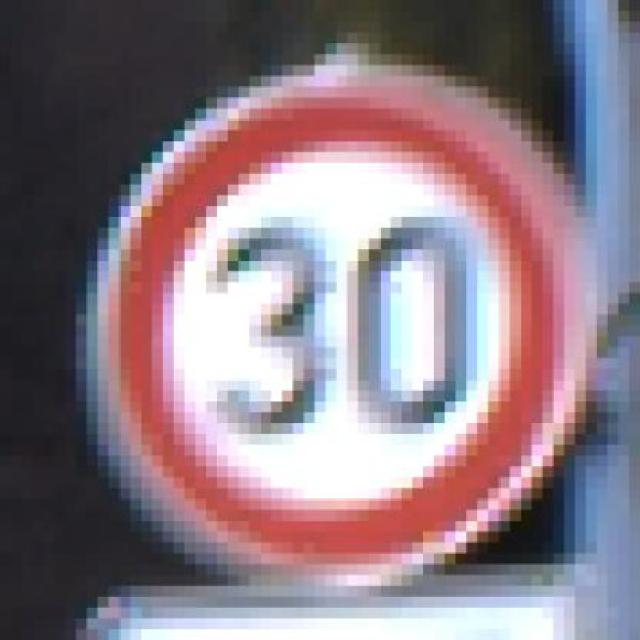Speed Limit 30 KMPh: (32, 54, 630, 608)
